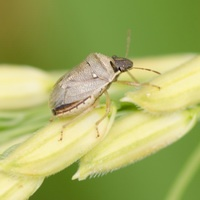insect: (49, 53, 132, 137)
